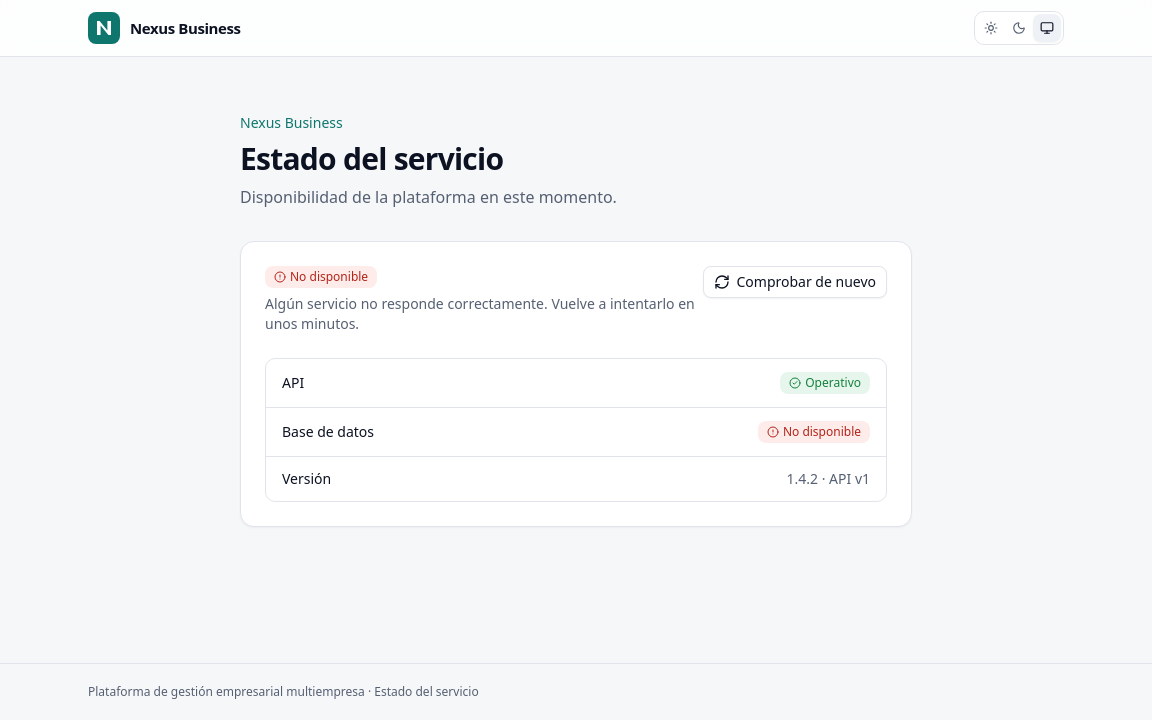
Test: StatusPage › reports a degraded database when readiness fails, and recovers on retry
The width and height of the screenshot is (1152, 720).
Expected: the text "Algún servicio no responde correctamente" is shown, [265,294,695,333]
Expected: the text "Operativo" is shown, [780,372,870,394]
Click the button "Comprobar de nuevo". click: point(795, 282)
box: [704,266,887,298]
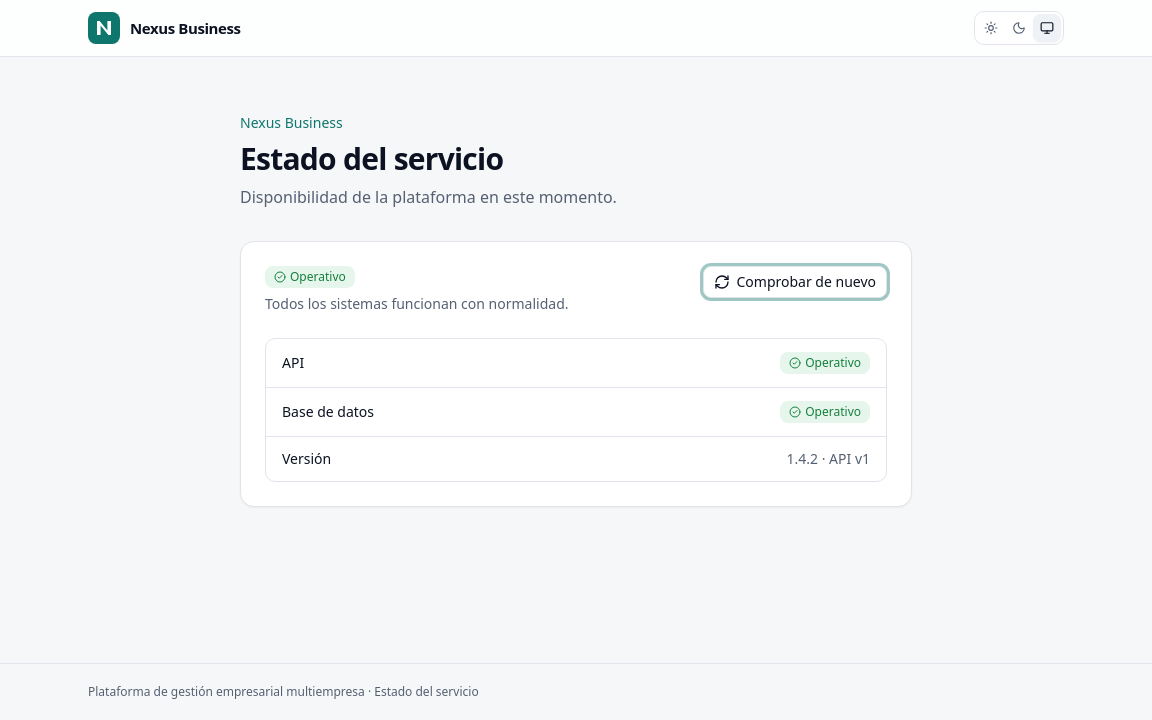
Expected: the text "Operativo" in the row of "Base de datos" is shown, [805,403,861,420]
Expected: the text "Todos los sistemas funcionan con normalidad." is shown, [265,294,568,313]
